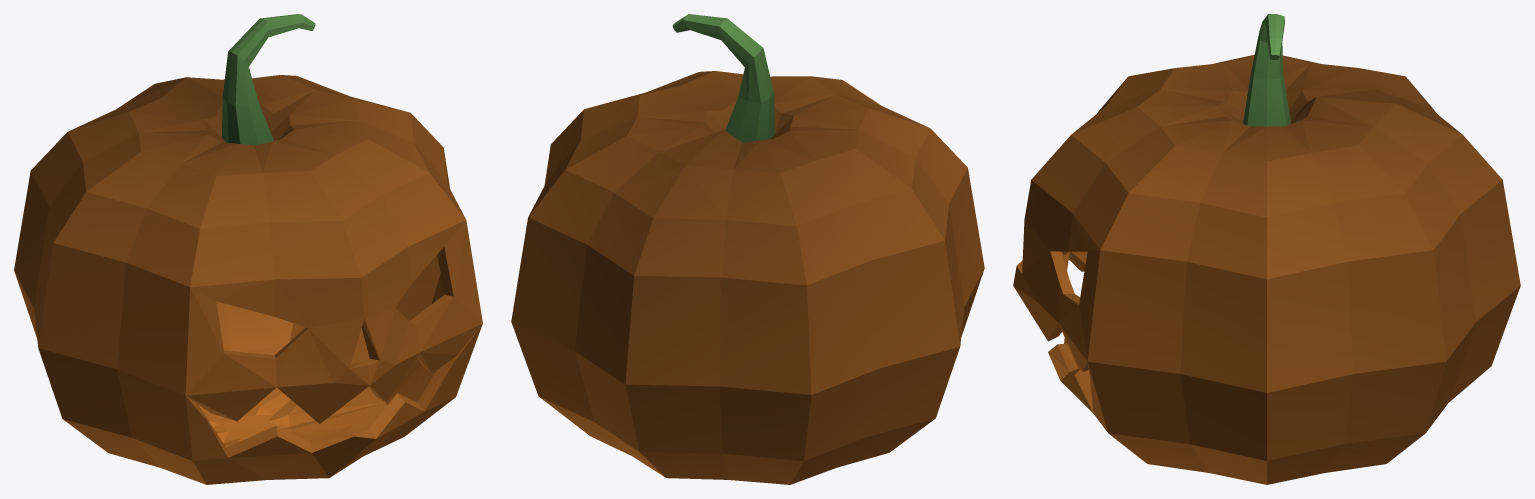
Rendered from Jack_O_Lantern_01.fbx.
3 renders of one model, left to right at view 1: azimuth 30°, elevation 25°; view 2: azimuth 150°, elevation 25°; view 3: azimuth 270°, elevation 25°, orthographic. The views are drawn at different scales.
Visible parts, largest first — view 1: Jack_O_Lantern_01; view 2: Jack_O_Lantern_01; view 3: Jack_O_Lantern_01.
Boxes of the visible parts, x1,y1,x2,y2 form: Jack_O_Lantern_01: (14, 14, 482, 484); Jack_O_Lantern_01: (511, 14, 984, 484); Jack_O_Lantern_01: (1013, 14, 1520, 484).
Bounding box in the file's own units: 0.4 × 0.3752 × 0.4.
